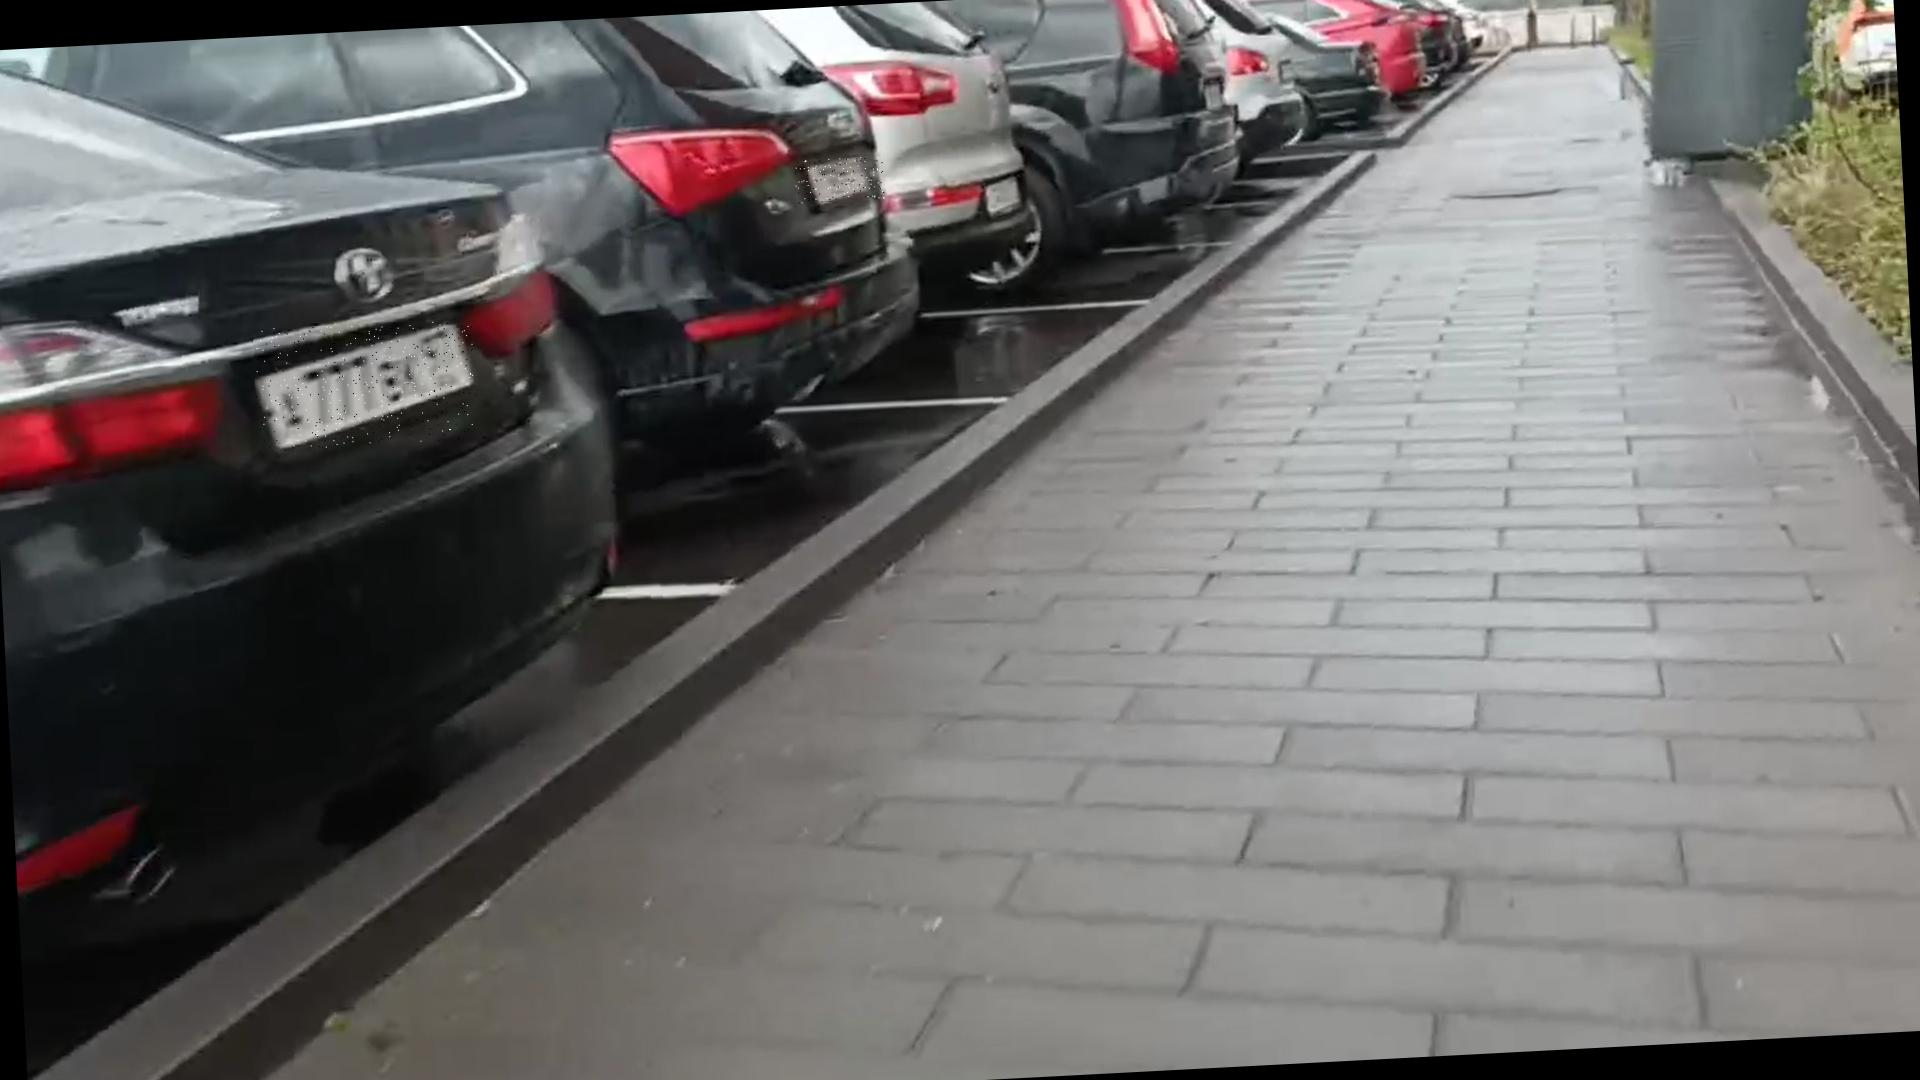plate: (254, 319, 480, 453), (796, 158, 886, 205)
